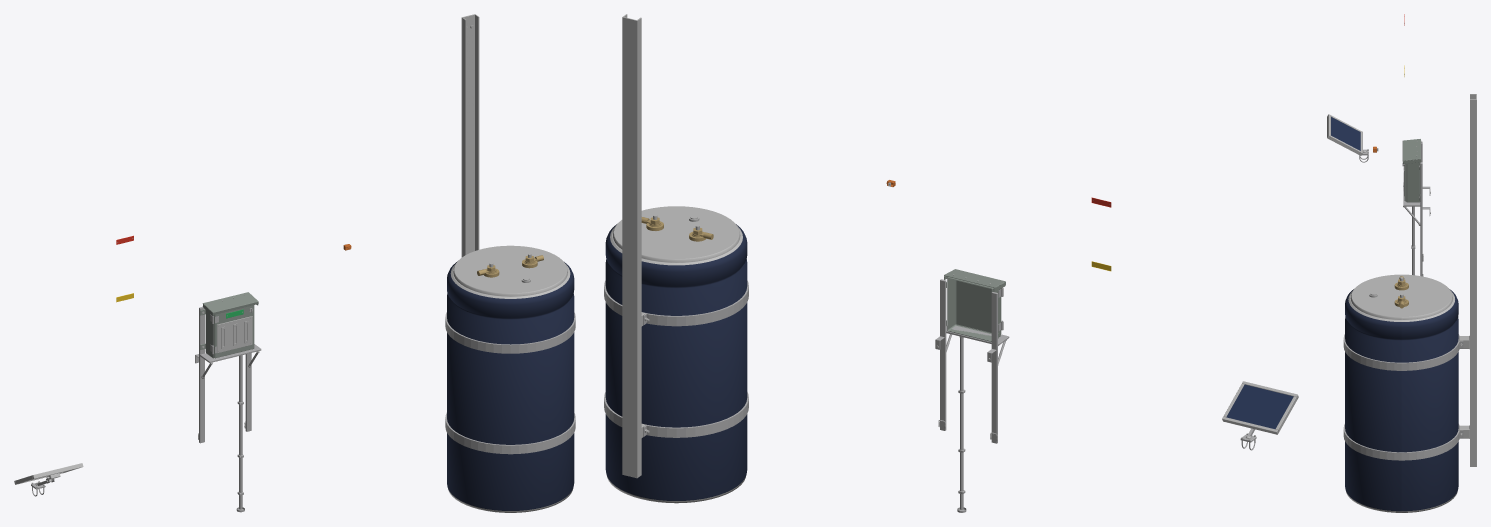
Rendered from tower_kit.glb.
The picture shows the model from 3 angles, left to right: view 1: azimuth 30°, elevation 25°; view 2: azimuth 150°, elevation 25°; view 3: azimuth 270°, elevation 25°; orthographic projection. The views are drawn at different scales.
Visible parts, largest first — view 1: CAP_k_sleeve, CAP_k_chan, CAP_k_phenolic, CAP_k_galv, BOX_k_galv, BOX_k_paint, BOX_k_bezel, CAP_k_alu; view 2: CAP_k_sleeve, CAP_k_chan, CAP_k_phenolic, BOX_k_galv, BOX_k_paint, CAP_k_galv, PANEL_k_cell, CAP_k_alu, PANEL_k_frame; view 3: CAP_k_sleeve, CAP_k_phenolic, CAP_k_chan, CAP_k_galv, BOX_k_paint, BOX_k_galv, CAP_k_alu, PANEL_k_cell, PANEL_k_frame, CAP_k_brass.
Boxes of the visible parts, x1,y1,x2,y2 form: CAP_k_sleeve: (447, 262, 574, 510); CAP_k_chan: (461, 14, 479, 257); CAP_k_phenolic: (453, 245, 567, 296); CAP_k_galv: (445, 312, 575, 454); BOX_k_galv: (195, 307, 261, 512); BOX_k_paint: (200, 292, 258, 358); BOX_k_bezel: (217, 316, 252, 353); CAP_k_alu: (448, 264, 573, 512); CAP_k_sleeve: (605, 224, 747, 500); CAP_k_chan: (622, 14, 645, 478); CAP_k_phenolic: (613, 206, 739, 262); BOX_k_galv: (935, 279, 1009, 512); BOX_k_paint: (944, 269, 1005, 341); CAP_k_galv: (604, 280, 748, 437); PANEL_k_cell: (1226, 384, 1293, 428); CAP_k_alu: (607, 227, 745, 503); PANEL_k_frame: (1222, 381, 1298, 434); CAP_k_sleeve: (1345, 289, 1458, 511); CAP_k_phenolic: (1350, 274, 1452, 319); CAP_k_chan: (1459, 94, 1476, 466); CAP_k_galv: (1343, 334, 1463, 460); BOX_k_paint: (1402, 139, 1421, 202); BOX_k_galv: (1402, 141, 1430, 276); CAP_k_alu: (1346, 291, 1457, 512); PANEL_k_cell: (1331, 117, 1360, 150); PANEL_k_frame: (1327, 114, 1362, 155); CAP_k_brass: (1394, 276, 1408, 308).
Bounding box in the file's own units: 4.19 × 3.07 × 1.06.
